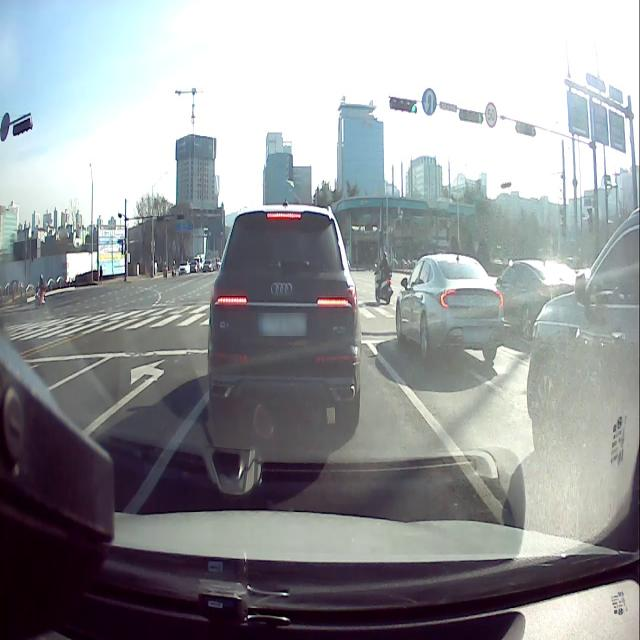Green Light: (410, 100, 417, 114), (477, 110, 483, 124), (530, 124, 536, 137)
